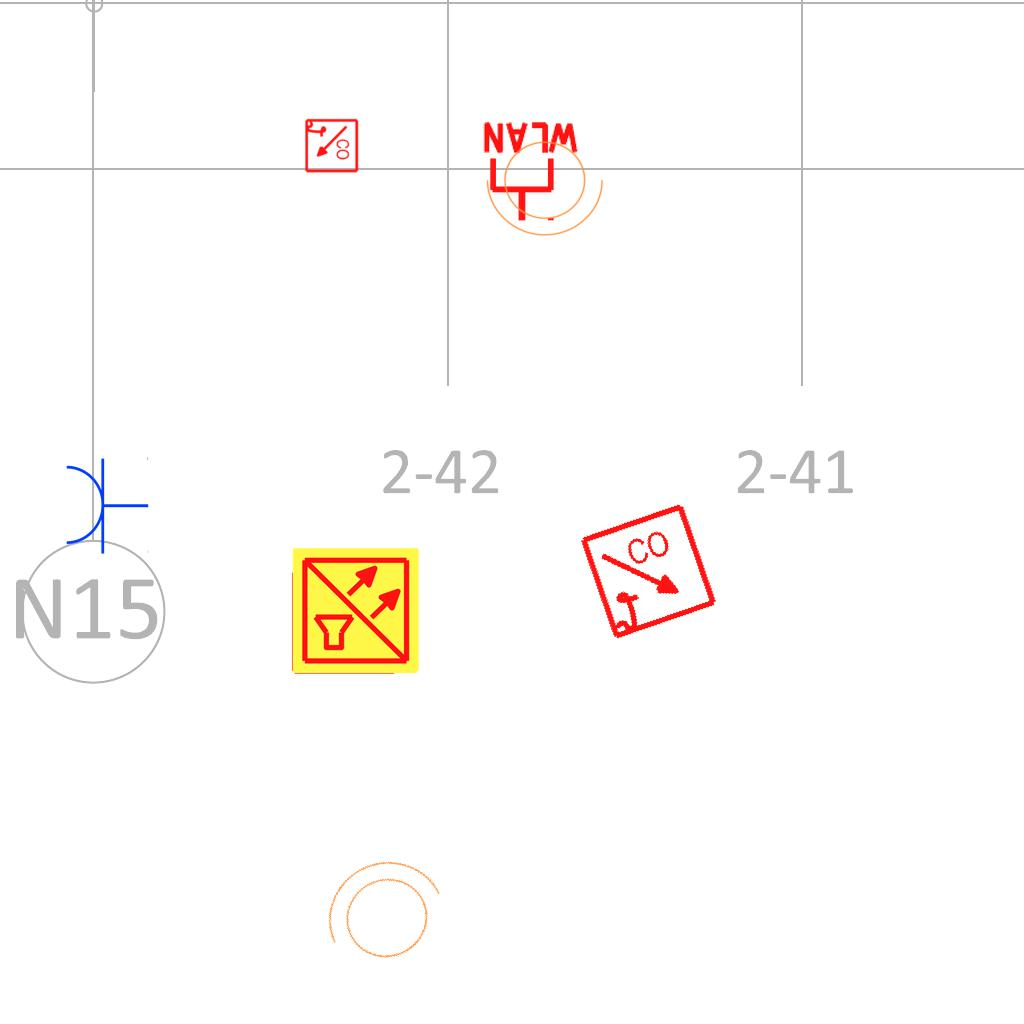OKW_Multisensormelder_(Kombination_optischer_Rauch-Kahlenmonoxid_Waerme-Melder): (290, 545, 422, 677)
ROA_Rauchmelder_optisch_mit_Signalgeber_(Sockelsirene): (577, 500, 722, 645), (303, 118, 359, 174)
Scheinwerfer_fuer_Alarmbeleuchtung: (298, 836, 466, 994), (482, 129, 614, 241)
Schukosteckdose_einfach: (62, 455, 149, 555)
WLAN: (479, 120, 583, 225)
